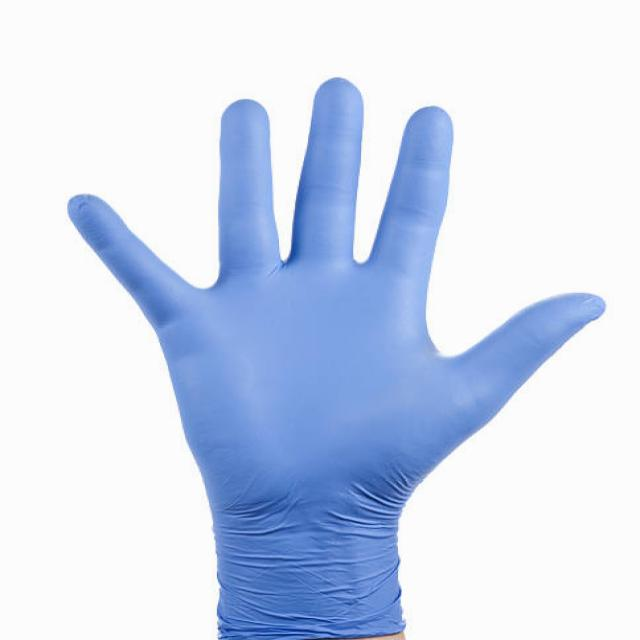masker: (68, 52, 607, 628)
